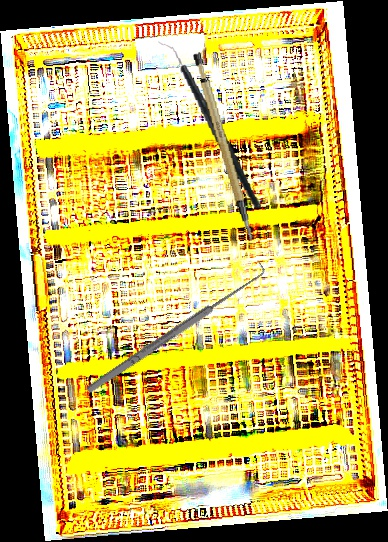Chopper: (156, 30, 263, 219)
Hook Surgical: (80, 259, 270, 397)
Scalpel Handle: (190, 48, 255, 247)
